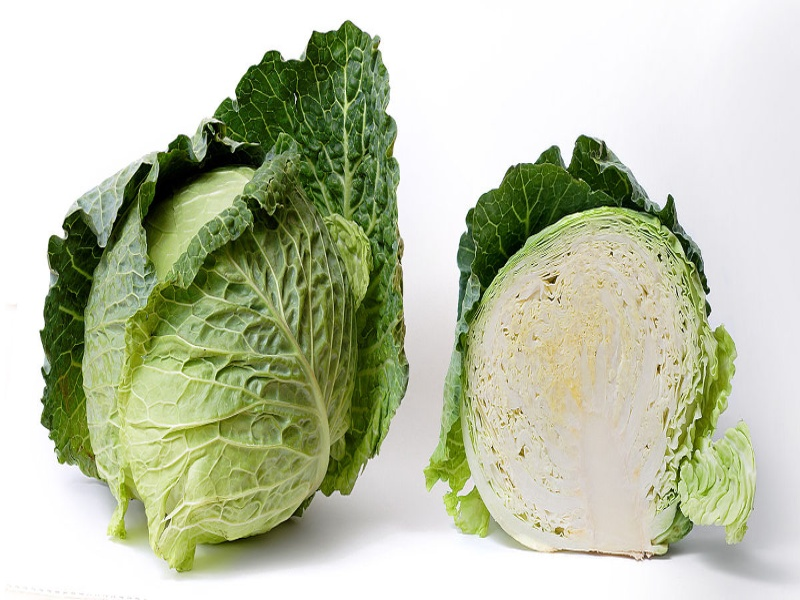Repollo: (30, 17, 421, 575), (434, 125, 777, 576)
